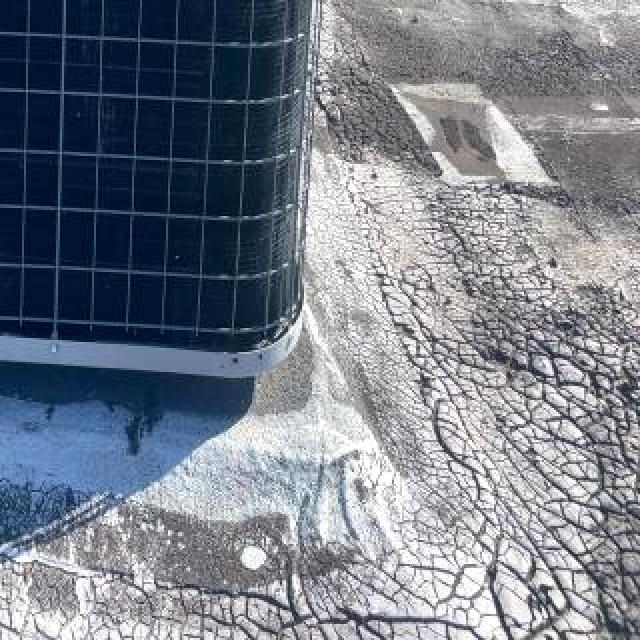SPLIT-SYSTEM: (0, 0, 320, 380)
